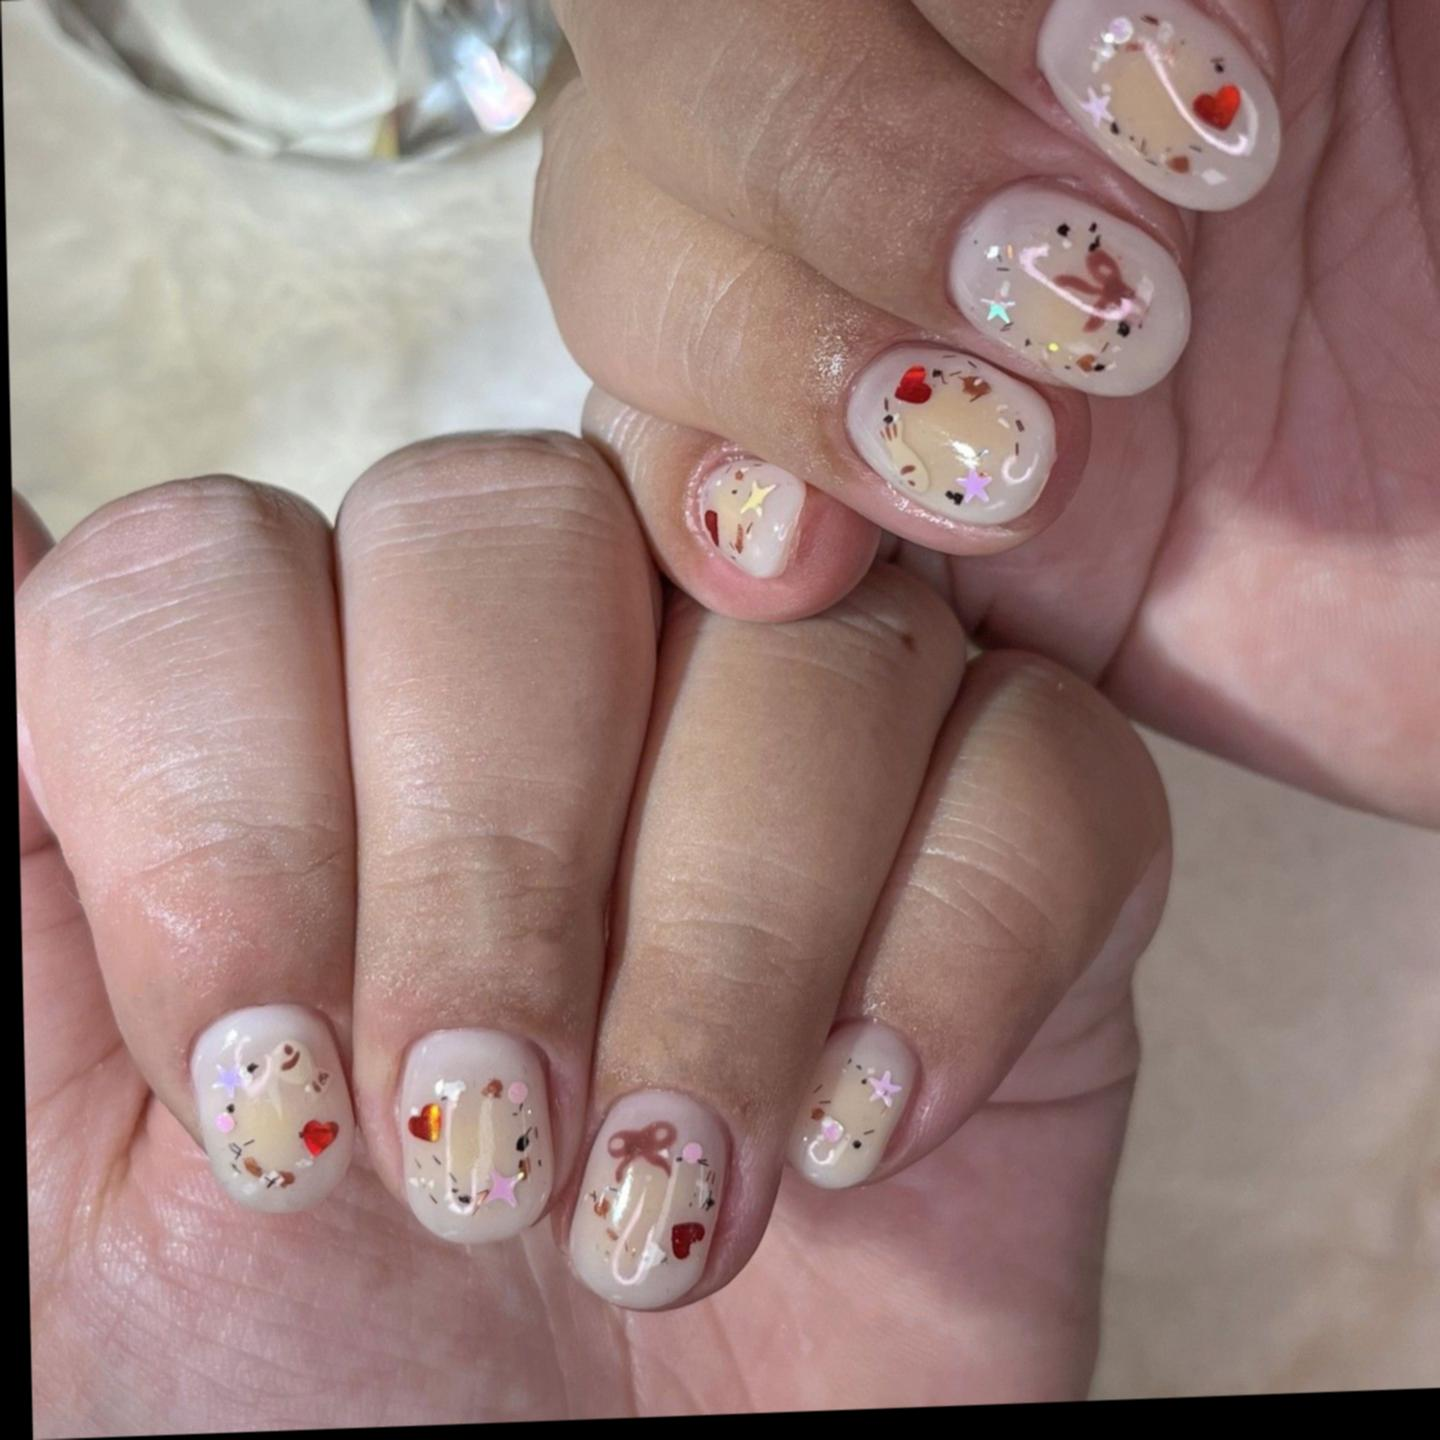nail: (941, 170, 1196, 405), (1034, 0, 1285, 220), (841, 334, 1062, 532), (564, 1085, 738, 1316), (392, 1023, 559, 1248), (186, 999, 356, 1218), (783, 1016, 924, 1193), (681, 439, 812, 584)
